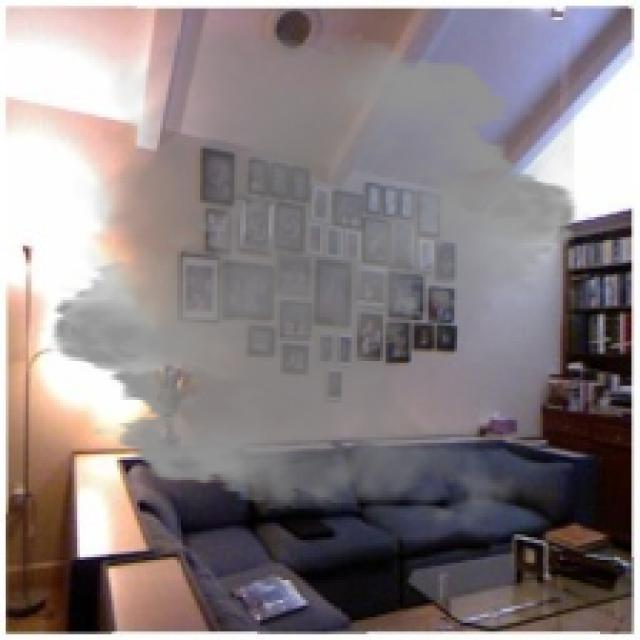smoke: (34, 11, 594, 546)
